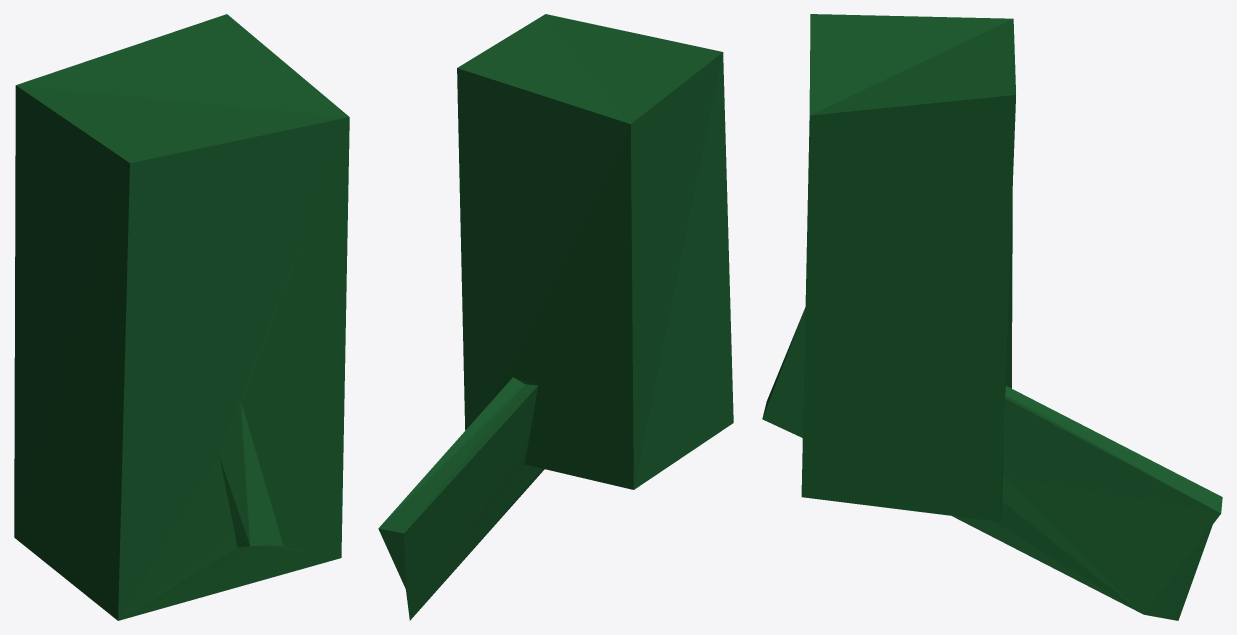
3 renders of one model, left to right at view 1: azimuth 30°, elevation 25°; view 2: azimuth 150°, elevation 25°; view 3: azimuth 270°, elevation 25°, orthographic. The views are drawn at different scales.
Visible parts, largest first — view 1: 871_Cube.3519; view 2: 871_Cube.3519; view 3: 871_Cube.3519.
Boxes of the visible parts, box(x1,y1,x2,y2) form: 871_Cube.3519: box(14, 14, 349, 620); 871_Cube.3519: box(378, 14, 733, 620); 871_Cube.3519: box(762, 14, 1222, 620).
Bounding box in the file's own units: 6.3 × 15.75 × 12.16.
